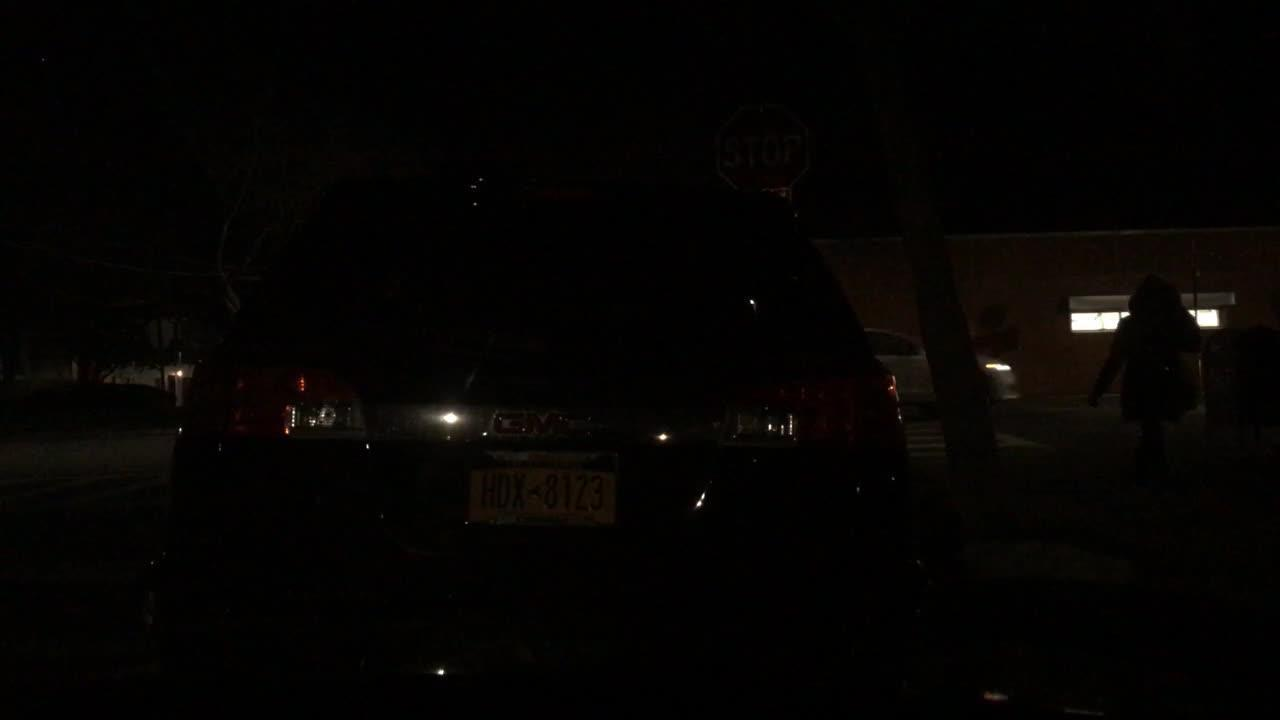GMC: (480, 390, 622, 446)
